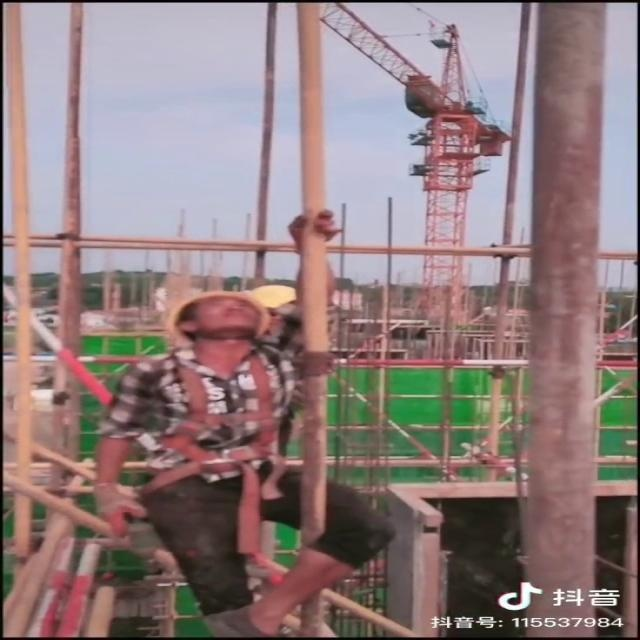Arnes_seguridad: (129, 345, 303, 499)
